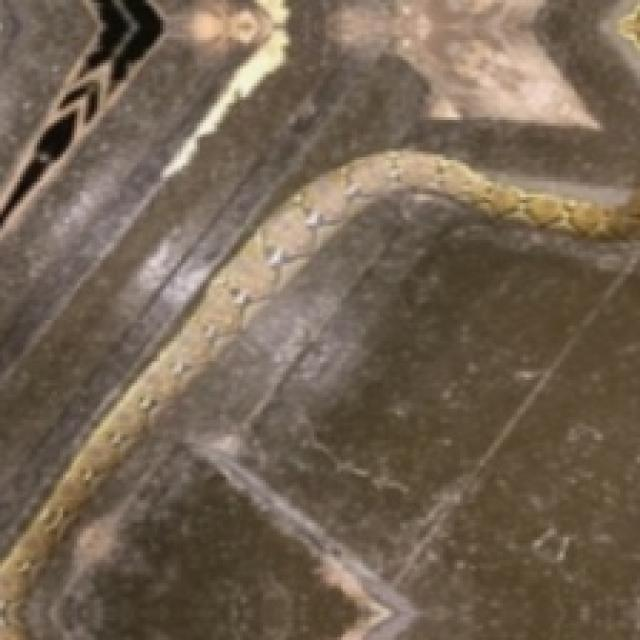reticulated python: (0, 150, 640, 604)
